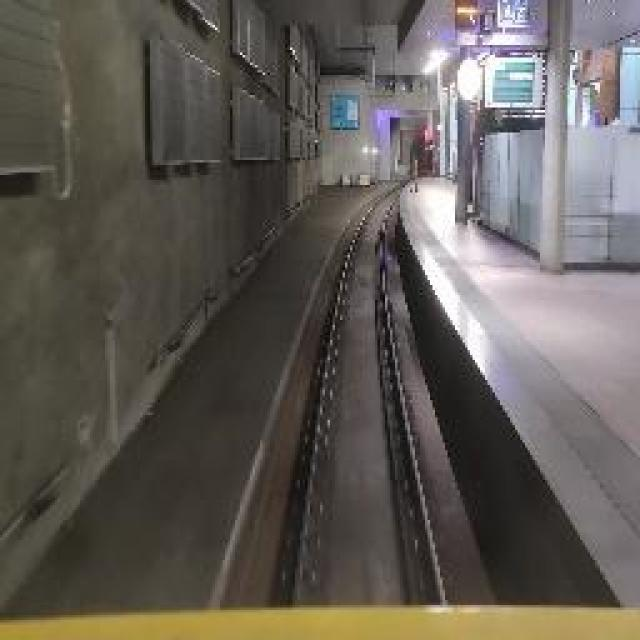rail: (263, 180, 479, 612)
